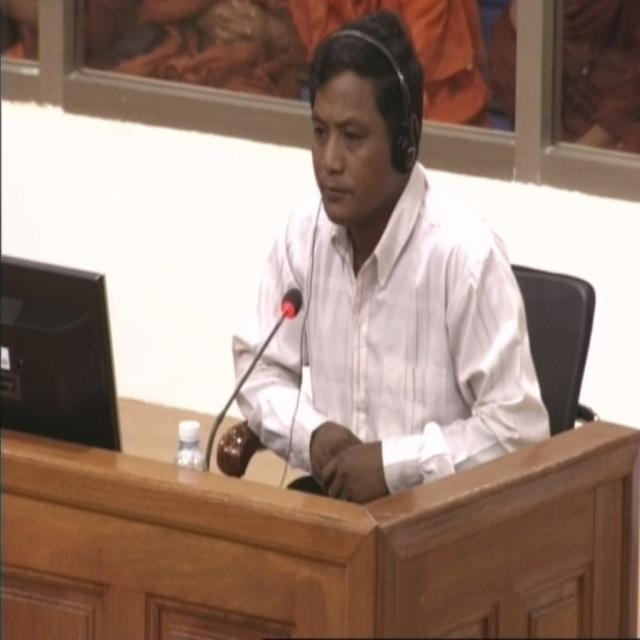chair: (512, 262, 596, 436)
desk: (0, 402, 640, 627)
person: (224, 10, 549, 499)
tv: (0, 253, 122, 453)
